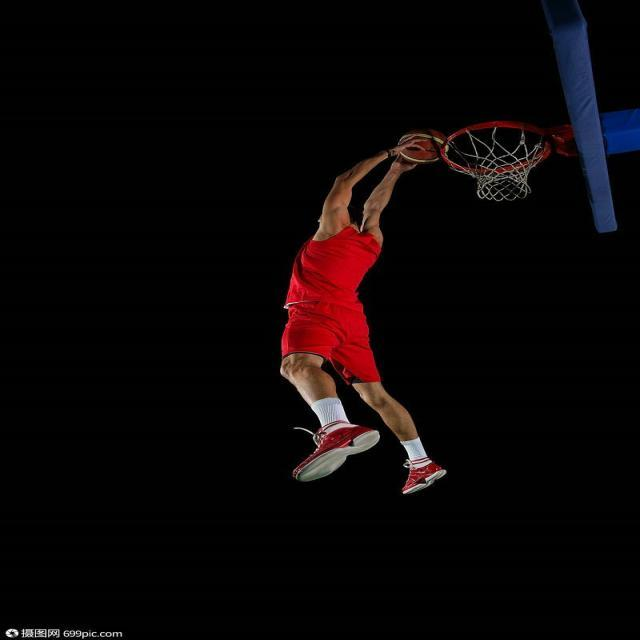rim: (396, 131, 438, 162)
